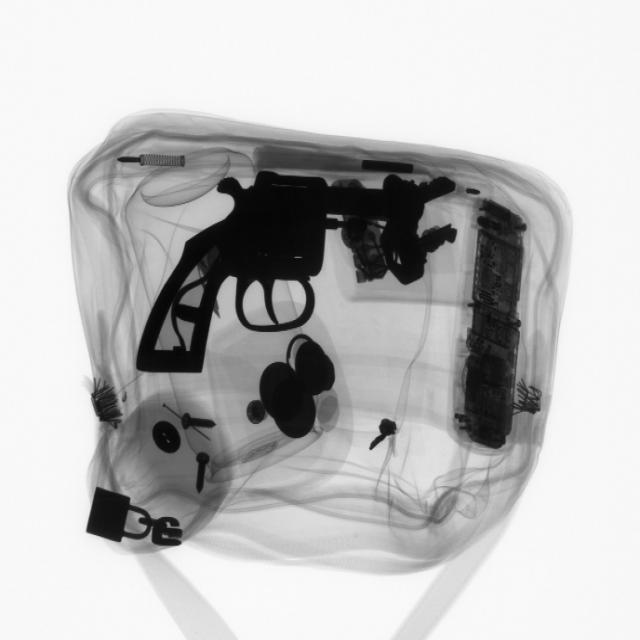GUN: (136, 172, 421, 389)
SCREW: (175, 447, 241, 506), (169, 394, 231, 445)
